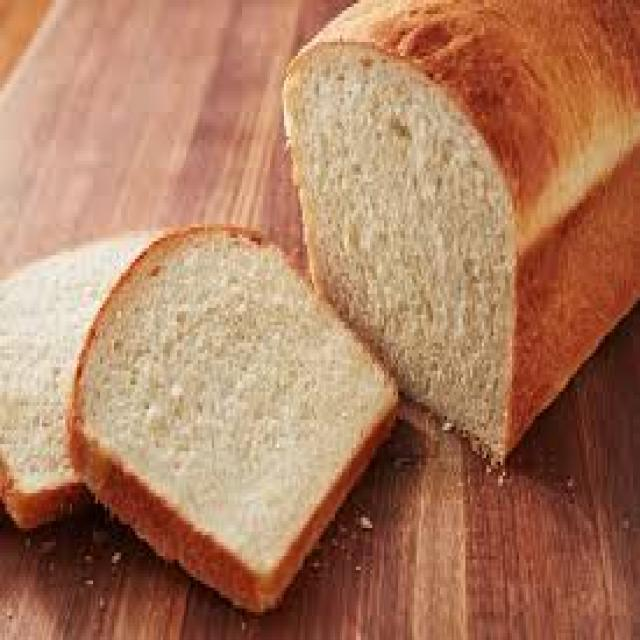organic waste: (279, 0, 638, 462), (62, 220, 396, 616), (0, 230, 158, 524)
